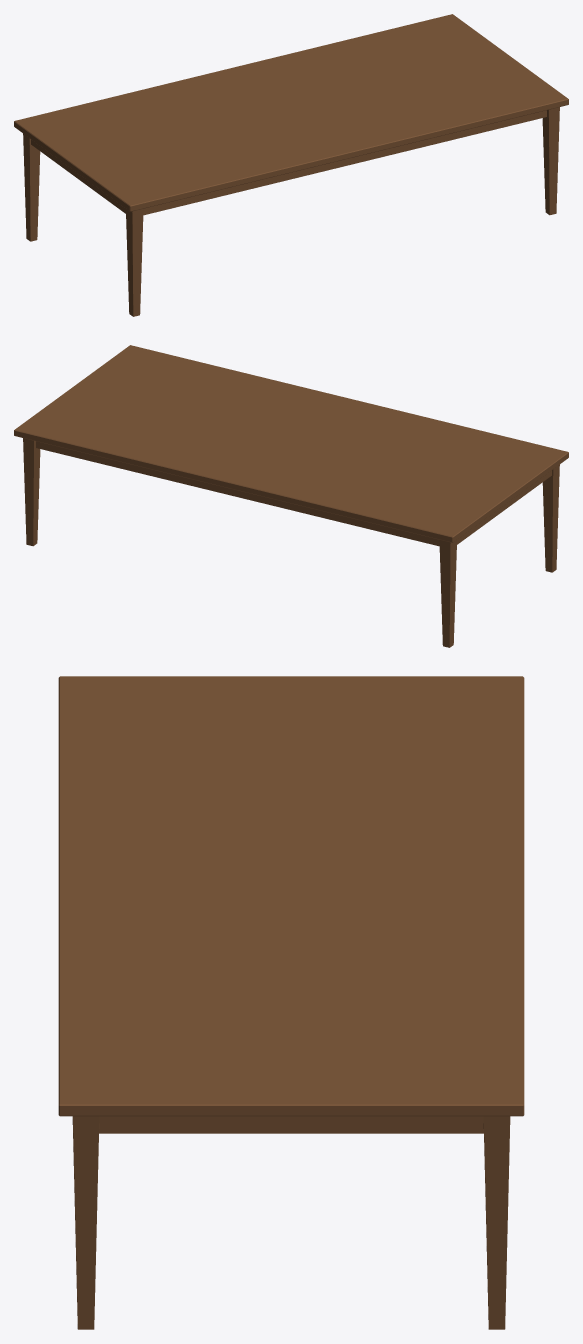
Rendered from Table.fbx.
3 renders of one model, top to bottom at view 1: azimuth 30°, elevation 25°; view 2: azimuth 150°, elevation 25°; view 3: azimuth 270°, elevation 25°, orthographic. The views are drawn at different scales.
Parts seen in each view (by area): view 1: Mesa; view 2: Mesa; view 3: Mesa.
Boxes of the visible parts, box(x1,y1,x2,y2) form: Mesa: box(14, 14, 568, 316); Mesa: box(14, 345, 568, 647); Mesa: box(58, 676, 524, 1329).
Bounding box in the file's own units: 741 × 187 × 340.
